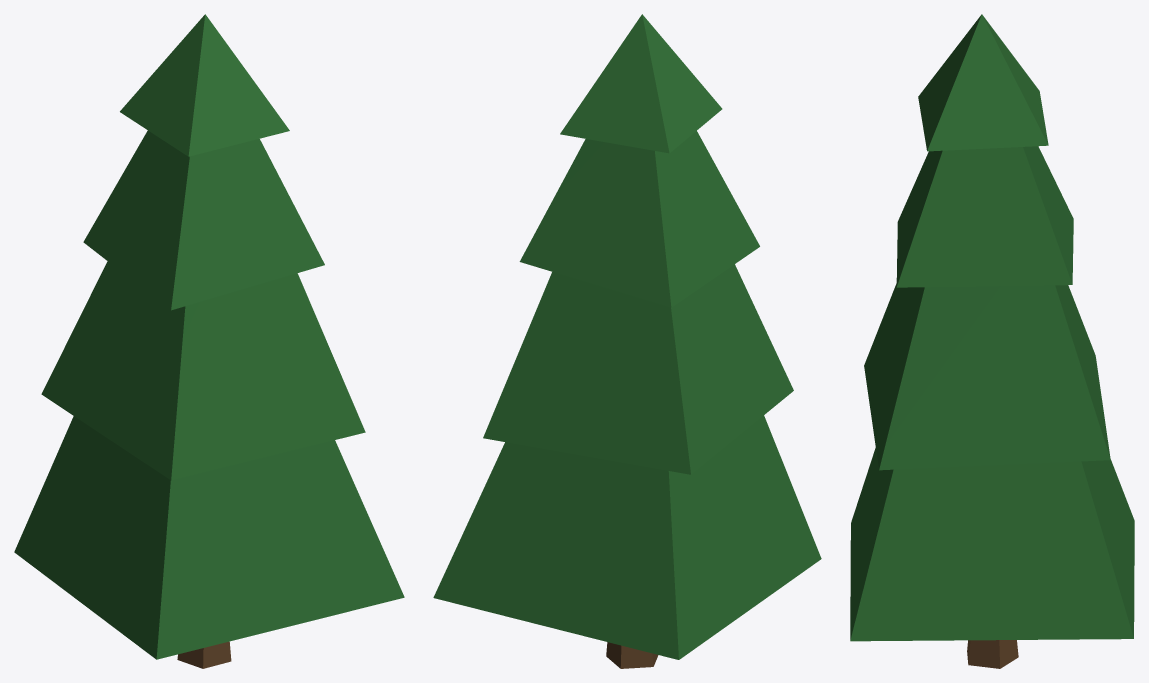
Rendered from nature-tree-fir.glb.
3 renders of one model, left to right at view 1: azimuth 30°, elevation 25°; view 2: azimuth 150°, elevation 25°; view 3: azimuth 270°, elevation 25°, orthographic.
Visible parts, largest first — view 1: tree-fir; view 2: tree-fir; view 3: tree-fir.
Part boxes in pixels (bbox=[...]): tree-fir: bbox=[14, 14, 404, 668]; tree-fir: bbox=[433, 14, 821, 668]; tree-fir: bbox=[850, 14, 1134, 668].
Bounding box in the file's own units: 2.33 × 5.79 × 2.33.
